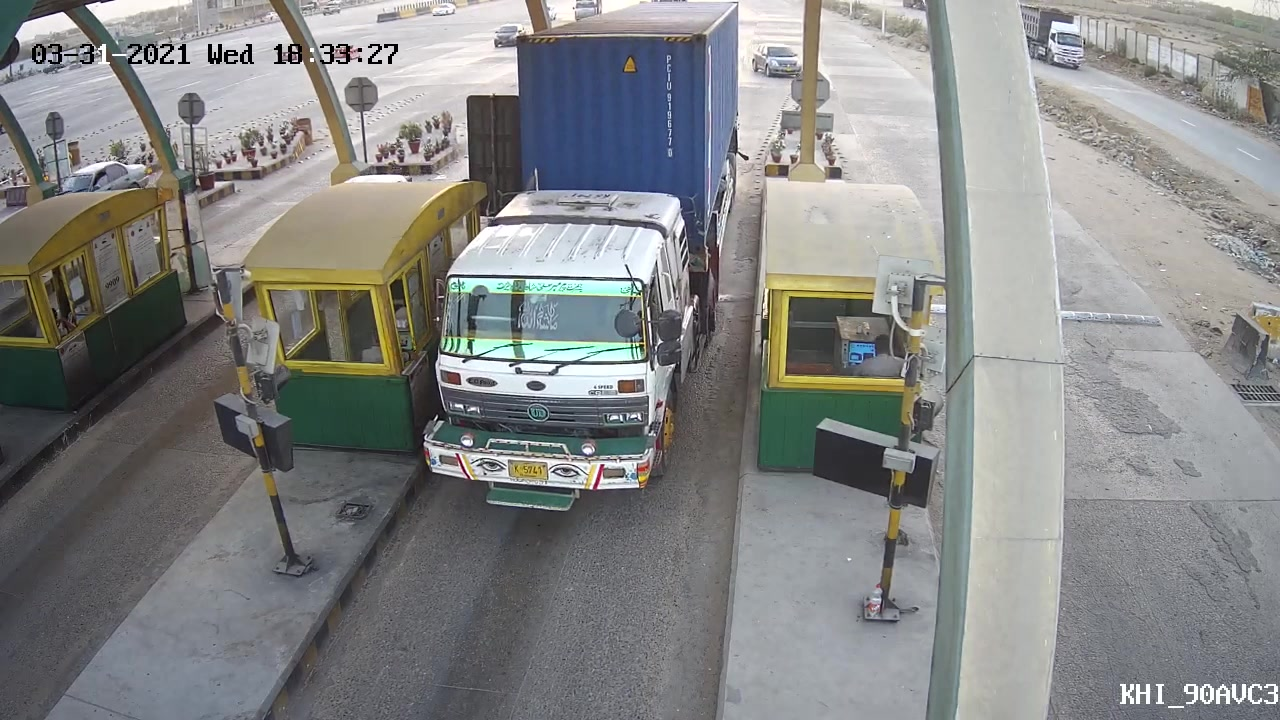F6: (411, 1, 747, 515)
